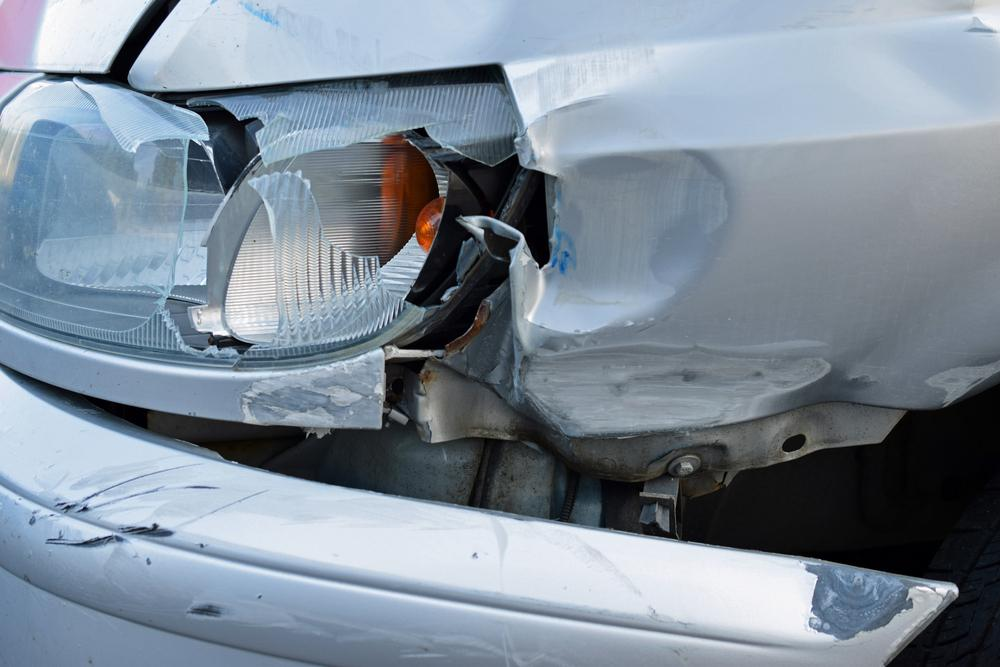dent: (533, 148, 733, 334)
scratch: (24, 455, 697, 667), (520, 345, 836, 432), (230, 346, 387, 429), (924, 359, 1000, 411)
